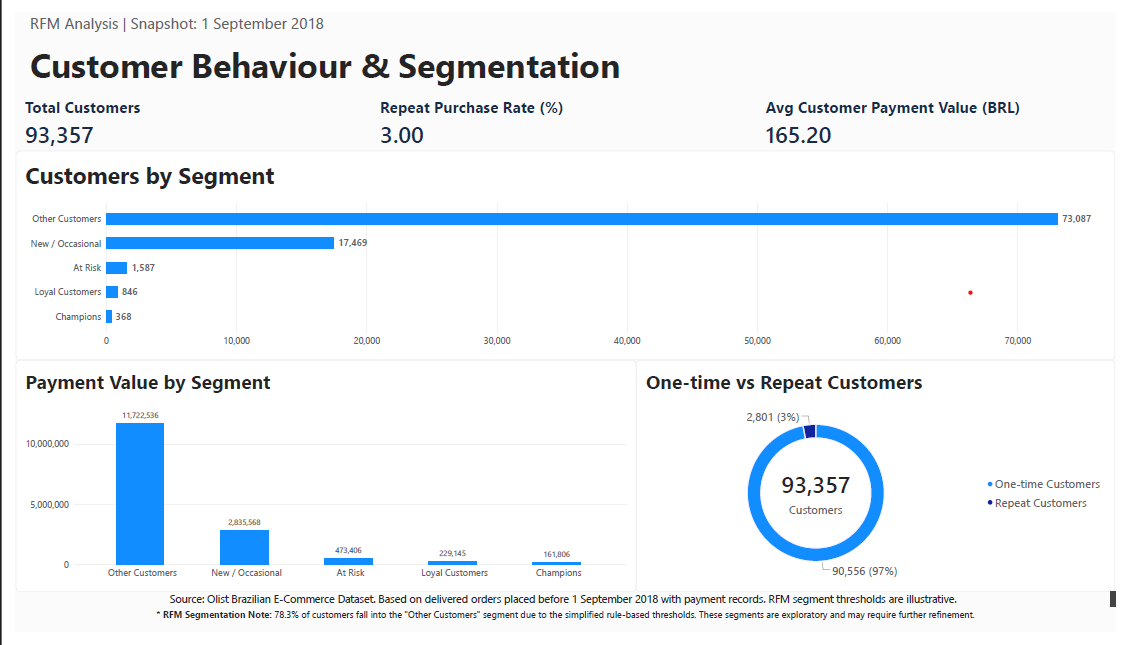

The dashboard page shown, as its layout file describes it:
{"tool":"powerbi","page":{"name":"Customer Analytics","canvas":[1920,1080],"ordinal":1},"visuals":[{"type":"clusteredBarChart","title":"Customers by Segment","fields":{"Category":["customer_segments.customer_segment"],"Y":["Sum(customer_segments.customer_count)"]},"box":[0,240.8,1919.3,365.7],"z":0},{"type":"clusteredColumnChart","title":"Payment Value by Segment","fields":{"Category":["customer_segments.customer_segment"],"Y":["Sum(customer_segments.total_payment_value)"]},"box":[0,606.4,1083.4,404.3],"z":1000},{"type":"donutChart","title":"One-time vs Repeat Customers","fields":{"Category":["customer_frequency.purchase_group"],"Y":["Sum(customer_frequency.customer_count)"]},"box":[1083.4,606.4,835.8,404.3],"z":2000},{"type":"cardVisual","fields":{"Data":["Sum(customer_kpis.total_customers)"]},"box":[0,132.5,330,140],"z":3000},{"type":"cardVisual","fields":{"Data":["Sum(customer_kpis.avg_customer_value)"]},"box":[1292.5,132.5,626.7,106.7],"z":4000},{"type":"cardVisual","fields":{"Data":["Sum(customer_kpis.repeat_purchase_rate_pct)"]},"box":[620,132.5,626.7,106.7],"z":5000},{"type":"textbox","box":[25,0,1219.7,131.7],"z":6000},{"type":"textbox","box":[0,1010.7,1919.3,29.5],"z":7000},{"type":"textbox","box":[1594.5,929,324.8,111.3],"z":8000},{"type":"textbox","box":[0,1040.3,1919.3,38.6],"z":8001}]}

Visuals, with their boxes in screenshot pixels (x1, y1, x2, y2), scaled from the page's 1920x1080 canvas onto the 1126x645 screenshot:
"Customers by Segment" clusteredBarChart: 0 144 1125 362
"Payment Value by Segment" clusteredColumnChart: 0 362 635 604
"One-time vs Repeat Customers" donutChart: 635 362 1125 604
cardVisual - Sum(customer_kpis.total_customers): 0 79 194 163
cardVisual - Sum(customer_kpis.avg_customer_value): 758 79 1125 143
cardVisual - Sum(customer_kpis.repeat_purchase_rate_pct): 364 79 731 143
textbox: 15 0 730 79
textbox: 0 604 1125 621
textbox: 935 555 1125 621
textbox: 0 621 1125 644
